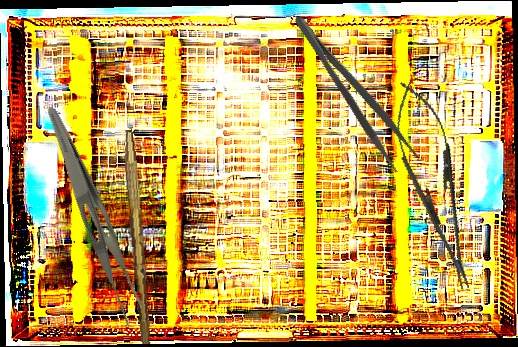Dressing Forceps: (23, 104, 158, 330), (289, 4, 421, 175)
Needle Holder: (380, 74, 490, 298)
Scalpel Handle: (117, 129, 156, 345)
